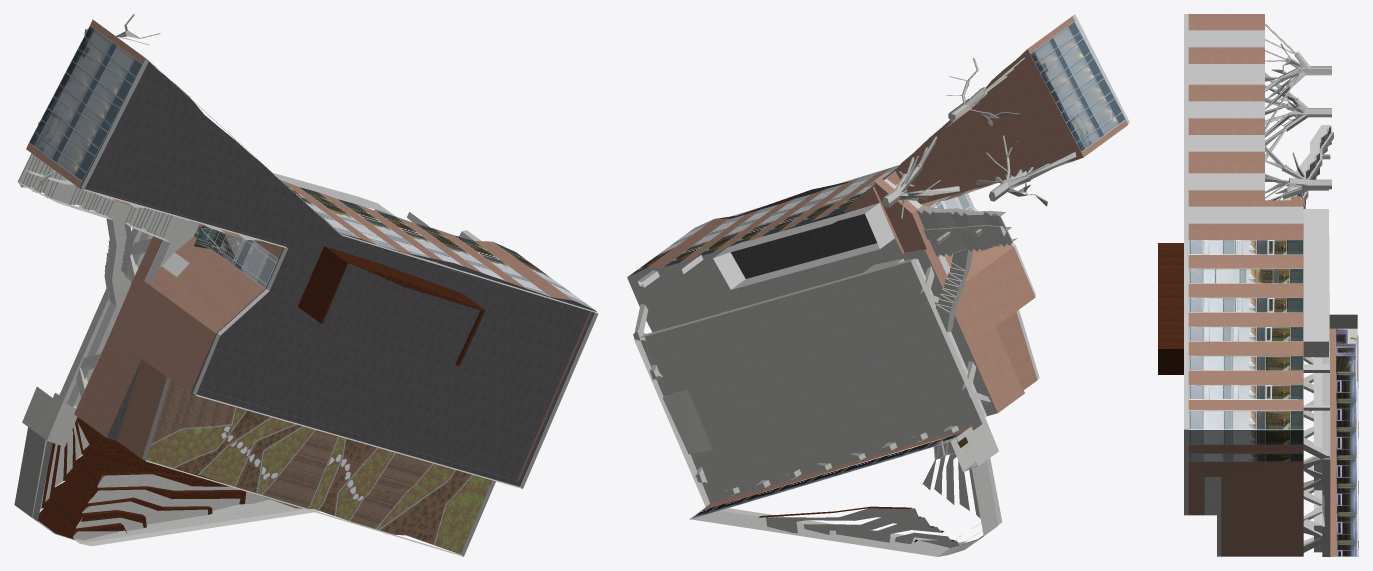
Rendered from Parnu_mnt_13-origo.obj.
3 renders of one model, left to right at view 1: azimuth 30°, elevation 25°; view 2: azimuth 150°, elevation 25°; view 3: azimuth 270°, elevation 25°, orthographic. The views are drawn at different scales.
Visible parts, largest first — view 1: Parnu_mnt_13; view 2: Parnu_mnt_13; view 3: Parnu_mnt_13.
Part boxes in pixels (<box>): Parnu_mnt_13: <box>14,14,598,556</box>; Parnu_mnt_13: <box>627,14,1129,556</box>; Parnu_mnt_13: <box>1158,14,1358,556</box>.
Bounding box in the file's own units: 50 × 55 × 23.55.
